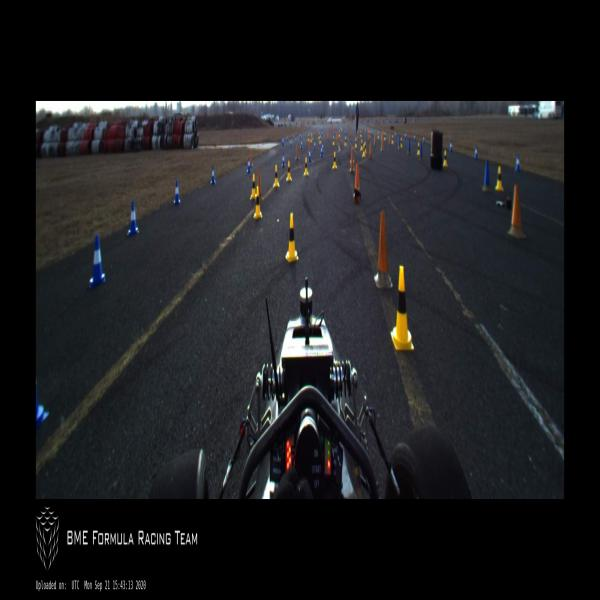blue_cone: (89, 235, 106, 289), (127, 200, 139, 236), (174, 180, 180, 205), (515, 153, 520, 172), (210, 166, 215, 184), (247, 157, 251, 173), (474, 146, 478, 159), (282, 153, 285, 167), (308, 149, 311, 162), (321, 146, 323, 157), (450, 141, 452, 152), (314, 140, 316, 150), (423, 136, 425, 144)
unknown_cone: (374, 212, 393, 288), (353, 162, 360, 198), (258, 168, 264, 202), (349, 148, 355, 172), (369, 141, 372, 158)
yellow_cone: (391, 266, 414, 350), (286, 212, 299, 262), (254, 186, 262, 219), (495, 166, 504, 190), (273, 164, 280, 188), (251, 174, 256, 200), (286, 161, 292, 181), (304, 157, 309, 176), (333, 152, 337, 169), (443, 150, 447, 167), (417, 142, 420, 155), (363, 145, 366, 157), (360, 140, 363, 151), (400, 137, 403, 148), (355, 138, 357, 148), (344, 137, 346, 146), (392, 136, 394, 144)
